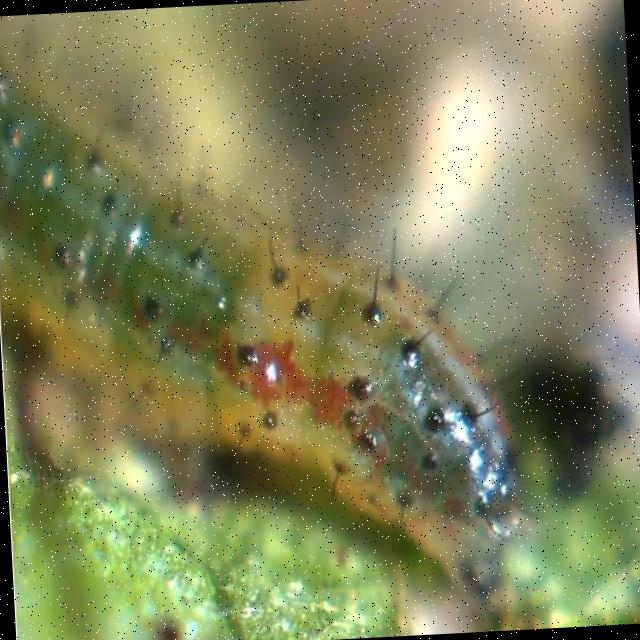worm: (1, 42, 541, 634)
